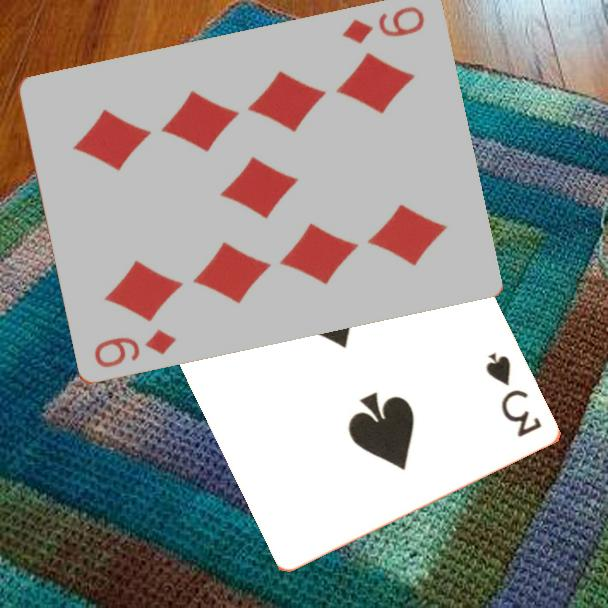d09: (90, 326, 178, 372), (338, 3, 427, 47)
s03: (482, 349, 545, 441)
